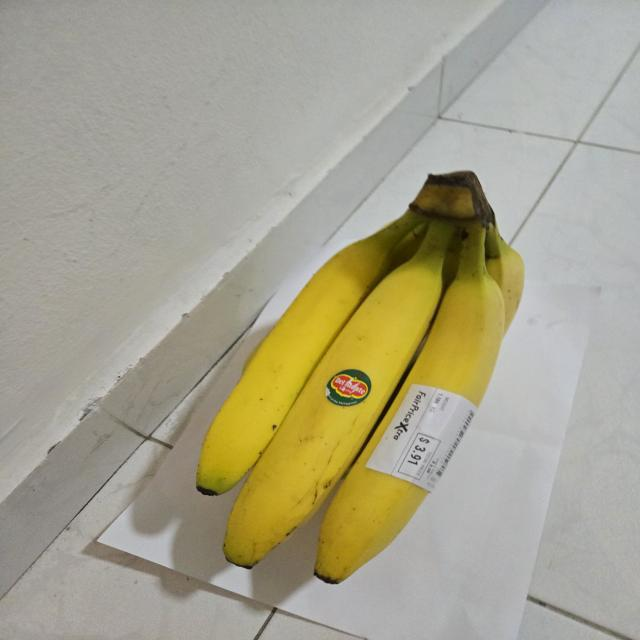banana: (168, 157, 542, 598)
